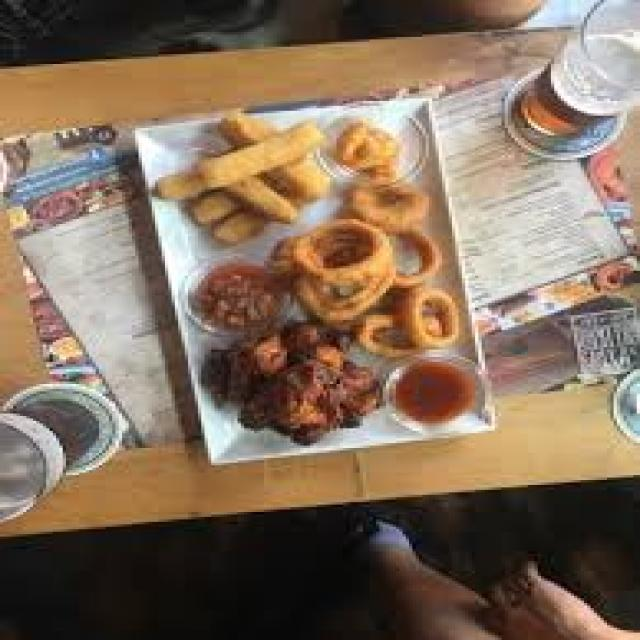Chicken Wings: (188, 322, 396, 440)
Onion Rings: (264, 197, 482, 362)
